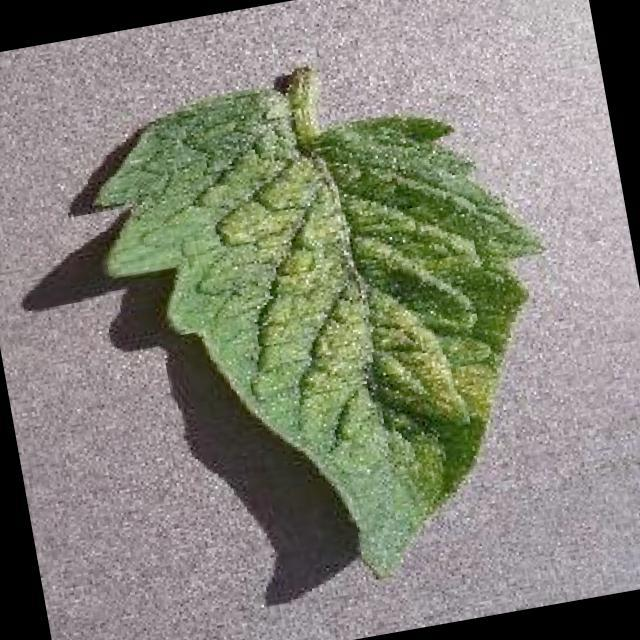Tomato spider mites leaf: (71, 42, 596, 618)
